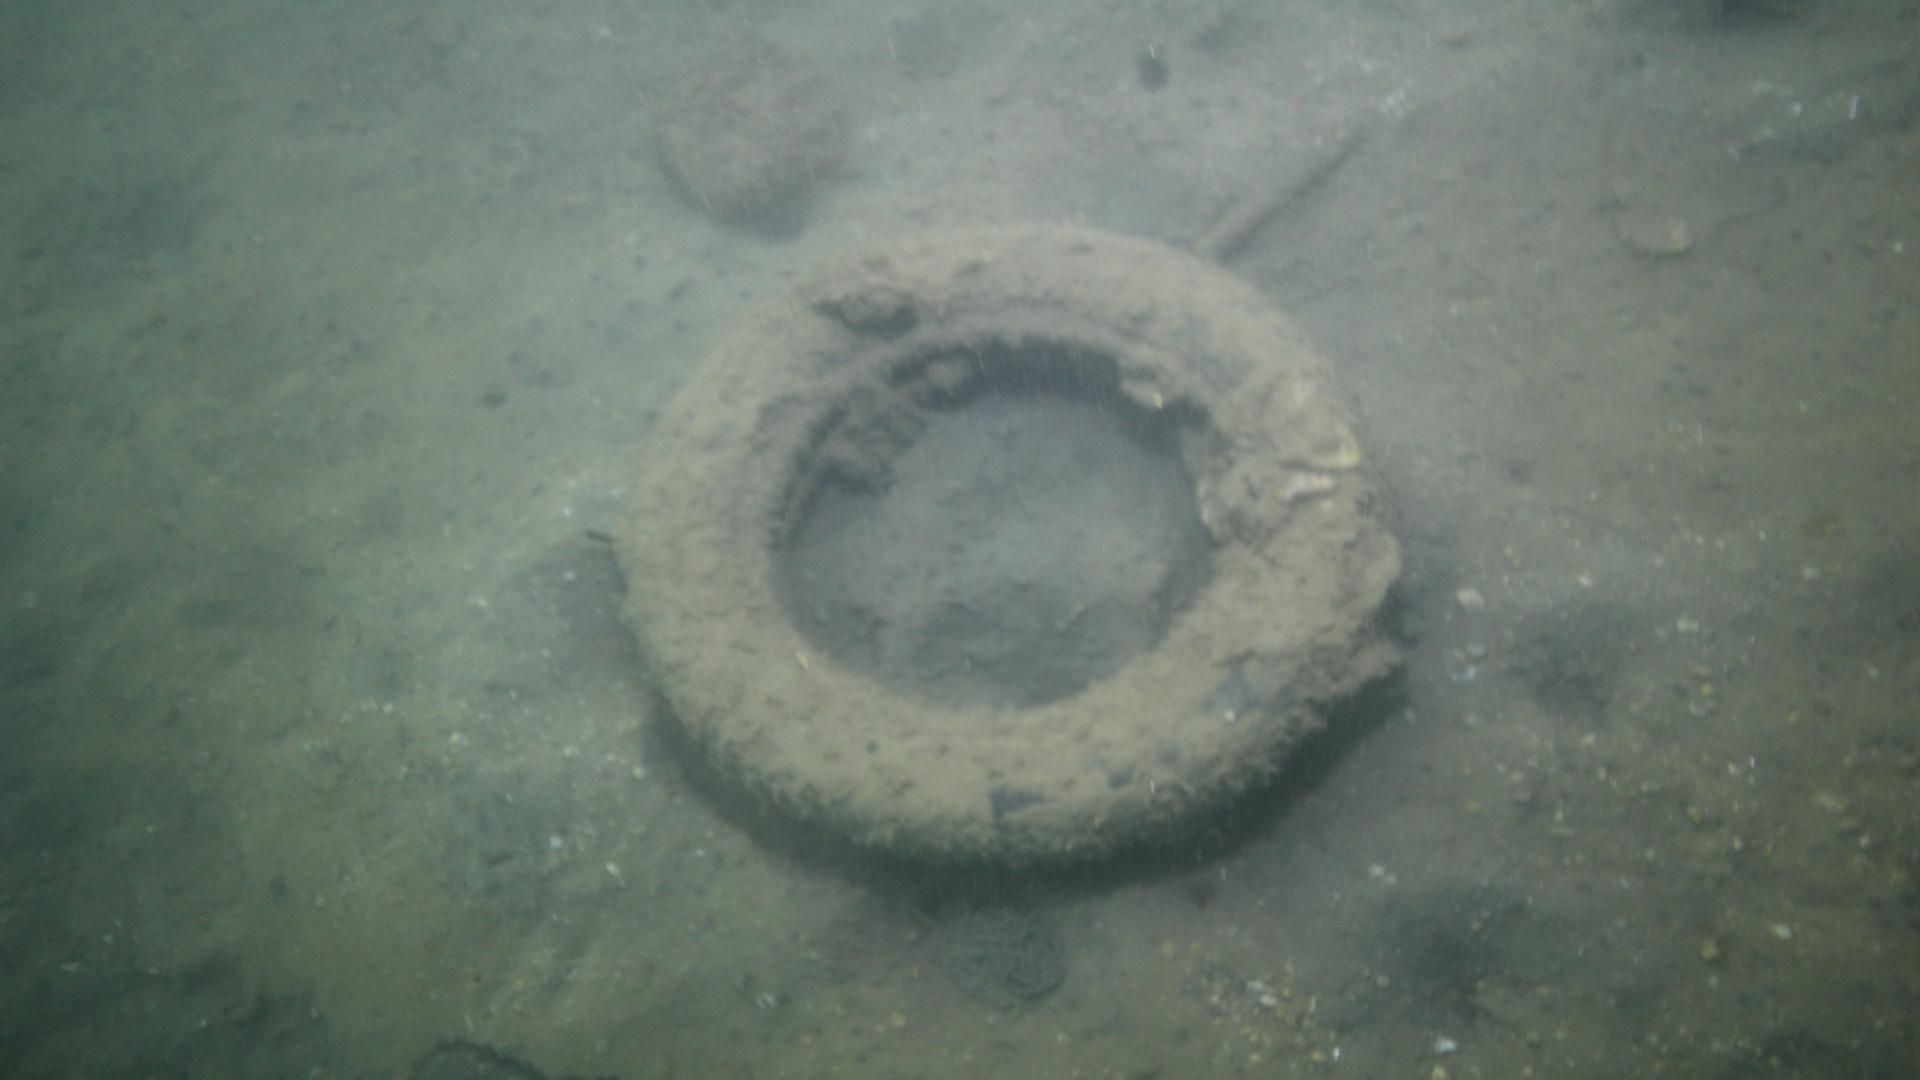tire: (576, 222, 1412, 890)
